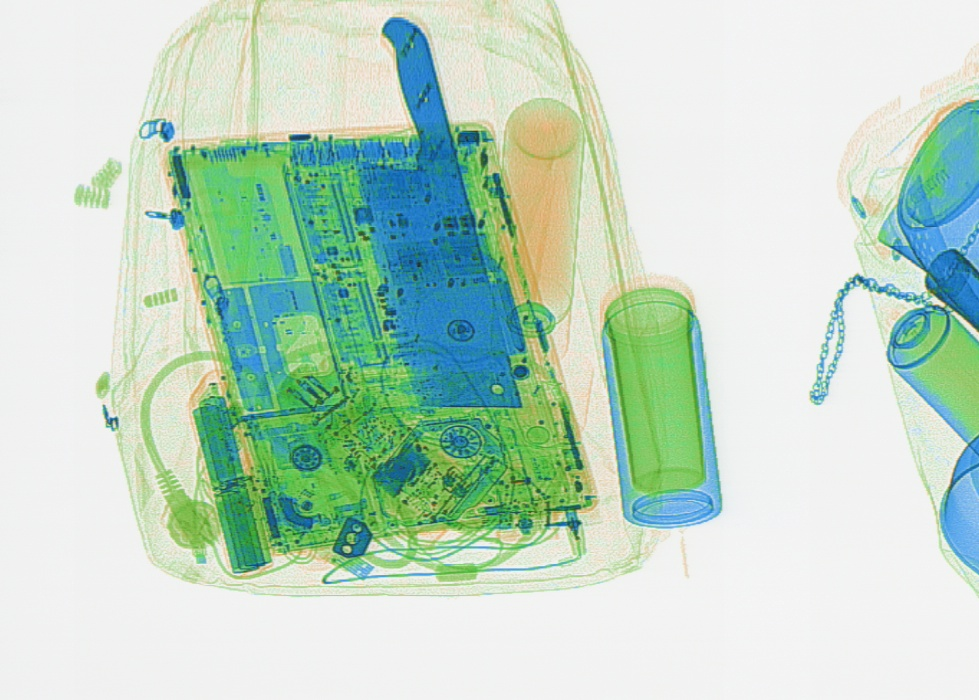knife: (357, 5, 526, 411)
lighter: (479, 460, 568, 498)
powerbank: (184, 367, 273, 578)
pressure: (495, 95, 586, 363), (882, 300, 977, 462)
